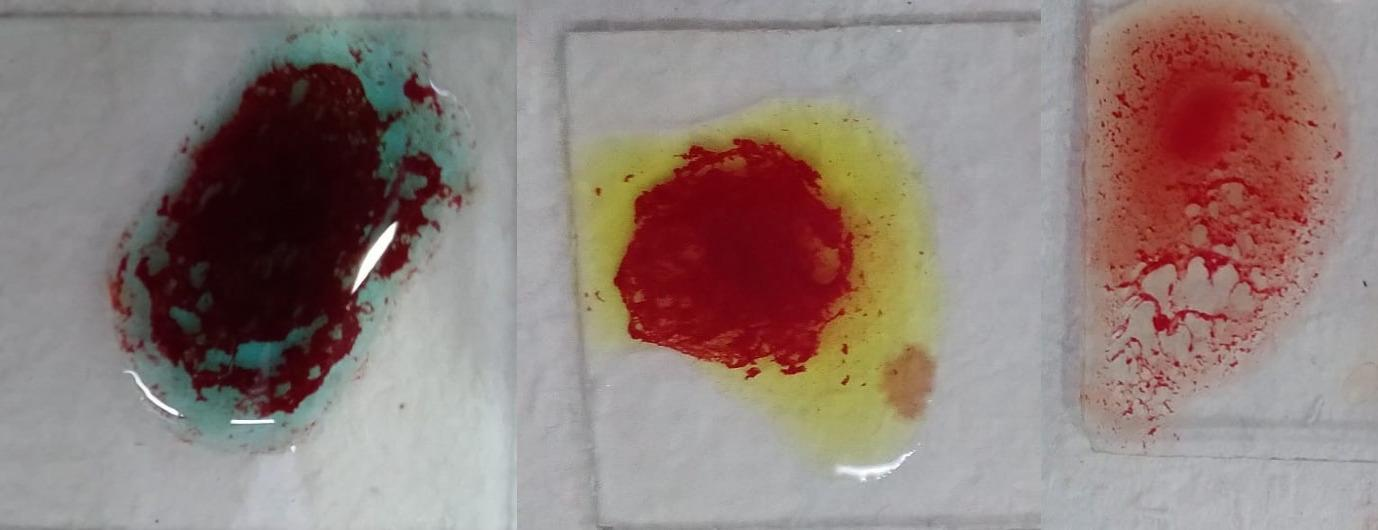A: (110, 18, 471, 444)
B: (583, 111, 916, 468)
D: (1093, 6, 1331, 439)
